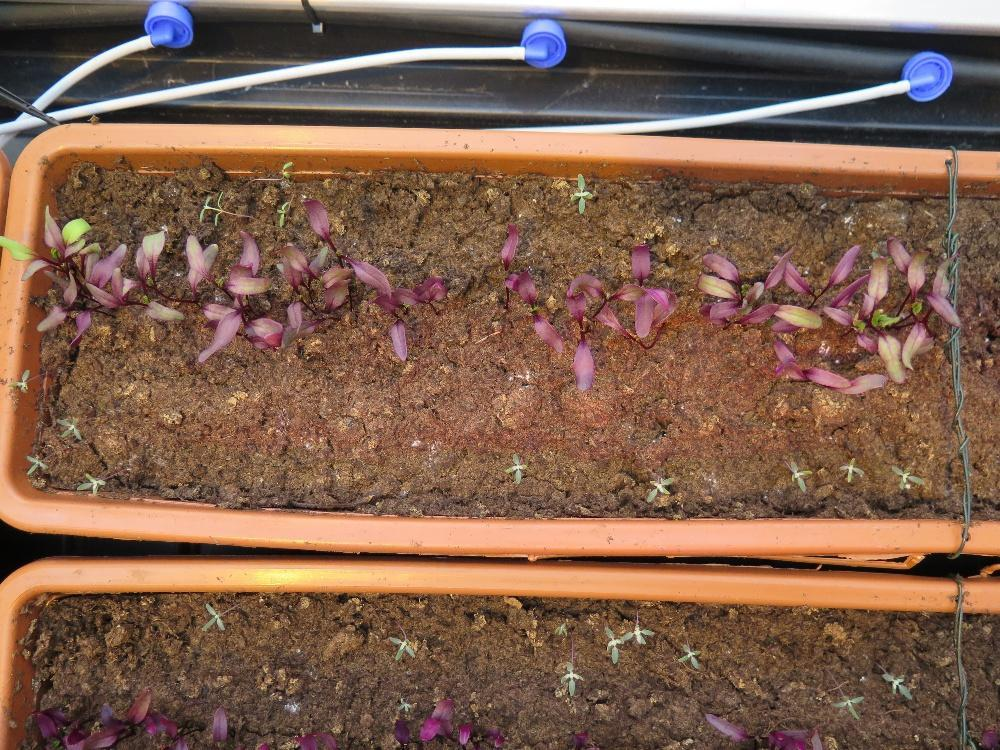weed: (568, 168, 593, 216), (556, 656, 584, 697), (880, 670, 913, 700), (831, 692, 864, 720), (889, 464, 925, 488), (502, 449, 527, 483), (788, 458, 812, 493), (644, 475, 673, 503), (837, 454, 865, 483), (74, 470, 105, 495), (54, 414, 82, 441), (199, 601, 224, 631), (387, 633, 414, 660), (676, 641, 701, 669), (24, 452, 48, 476), (7, 367, 29, 393), (275, 196, 289, 229), (395, 695, 412, 712), (551, 620, 566, 638)
